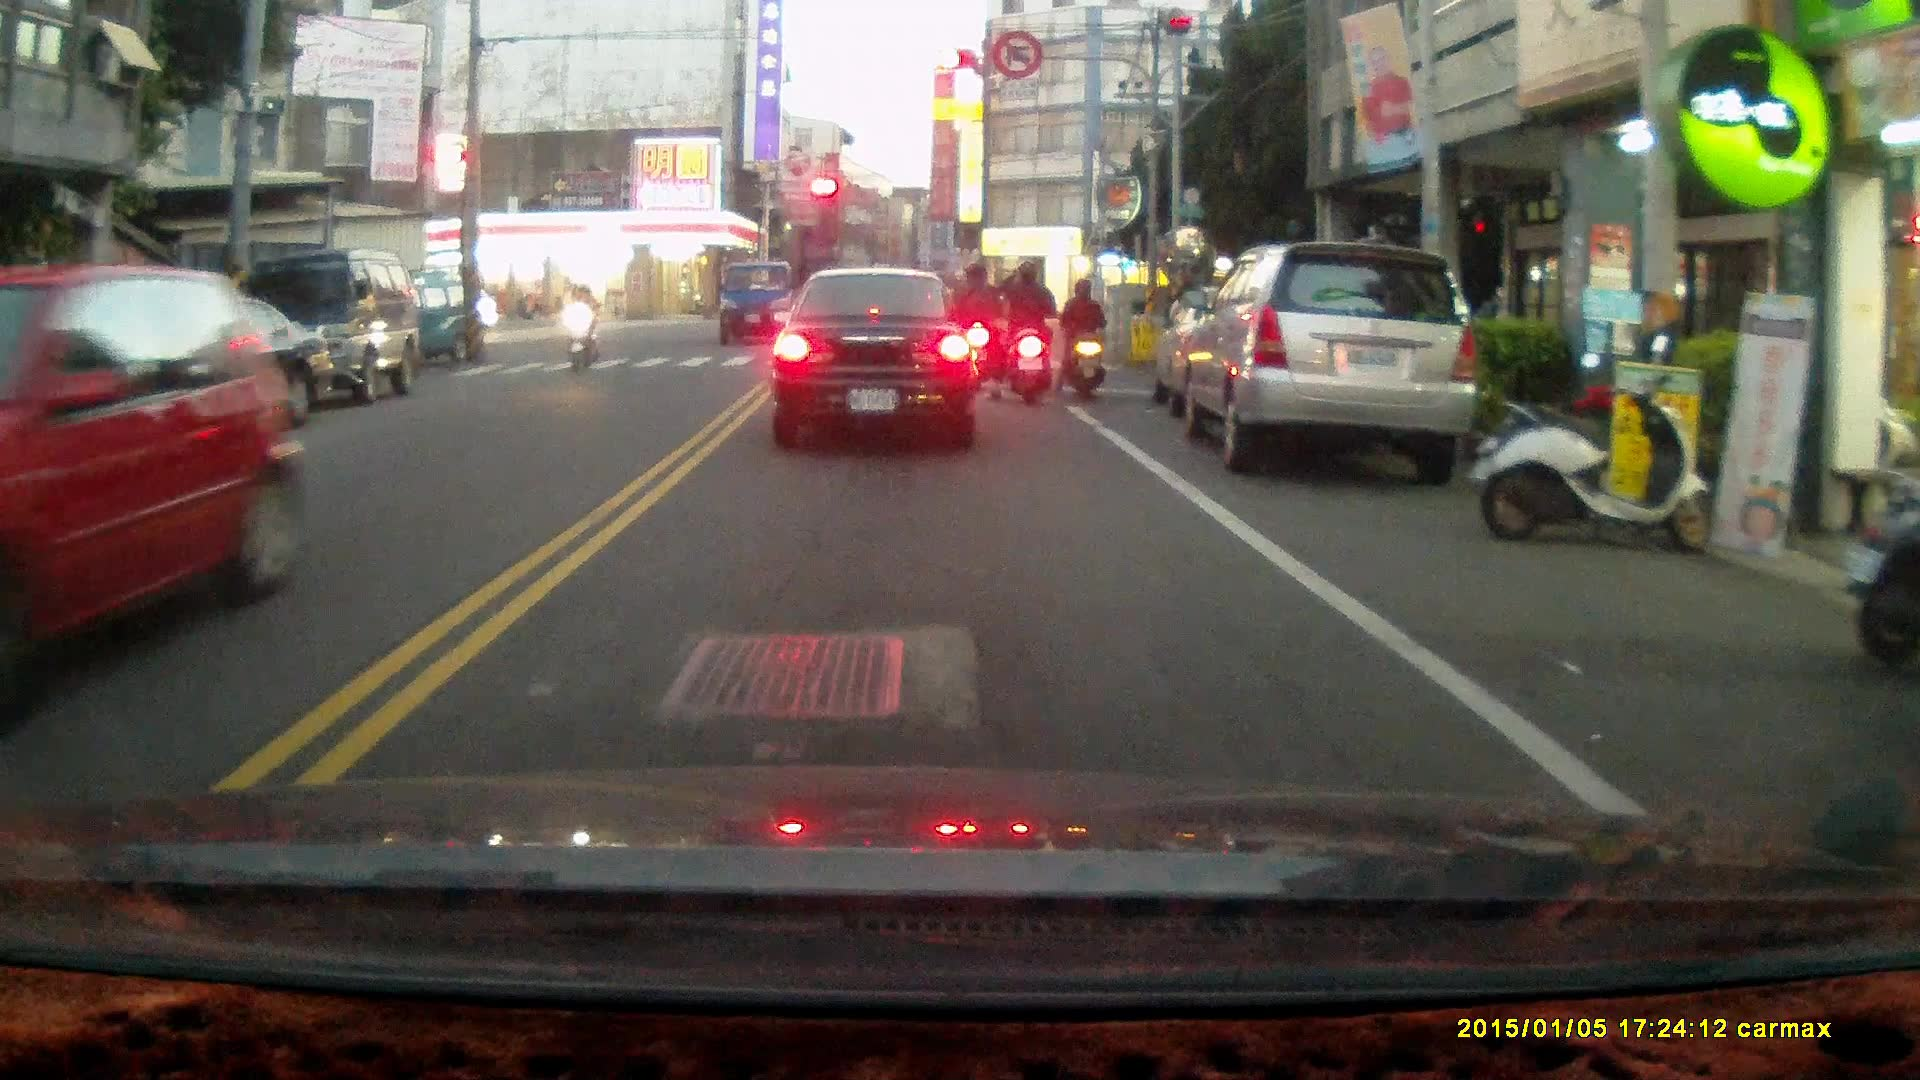rider: (988, 258, 1059, 410), (1053, 275, 1109, 401), (948, 263, 997, 389), (567, 282, 600, 374)
vehicle: (1, 263, 308, 695), (1168, 242, 1472, 476), (70, 296, 320, 459), (775, 267, 984, 448), (214, 247, 417, 405)
